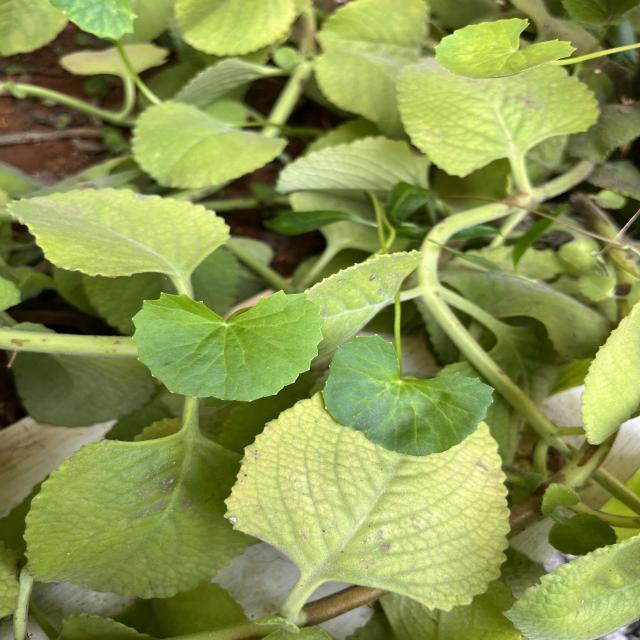Centella asiatica: (316, 330, 500, 460), (128, 287, 330, 404), (430, 13, 580, 82)
